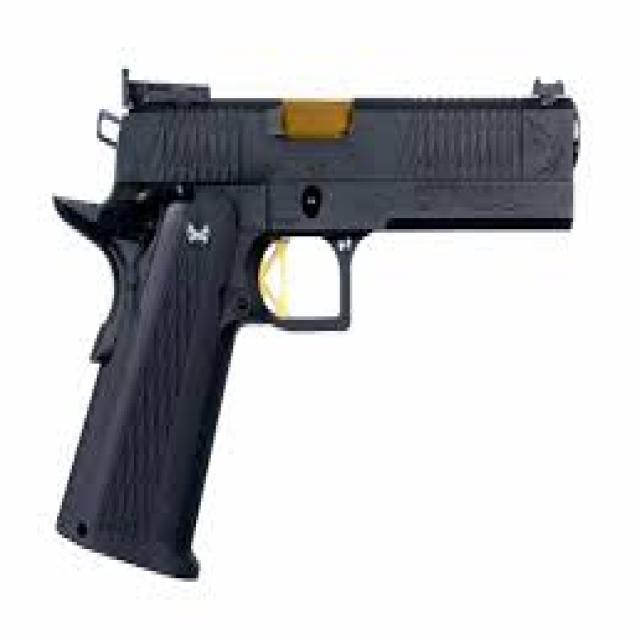Gun: (21, 47, 594, 597)
